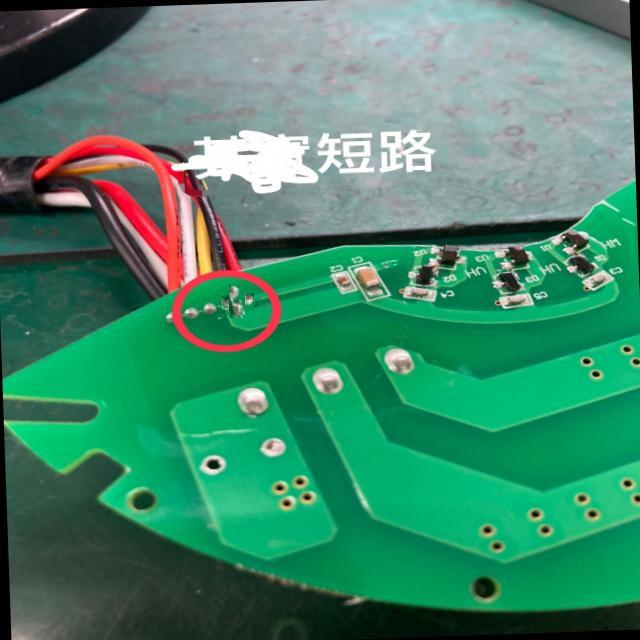Short_circuit: (229, 286, 244, 317)
